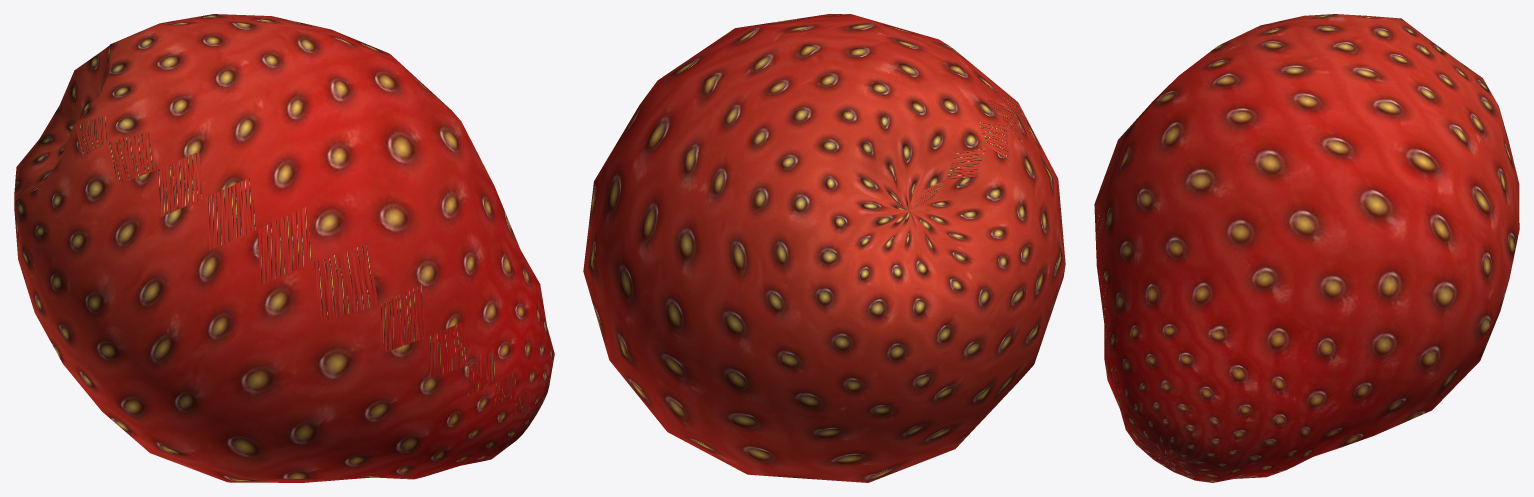
The model's file is Fresa.fbx.
3 views of the same model, side by side, from view 1: azimuth 30°, elevation 25°; view 2: azimuth 150°, elevation 25°; view 3: azimuth 270°, elevation 25° (orthographic). The views are drawn at different scales.
Parts seen in each view (by area): view 1: pSphere1; view 2: pSphere1; view 3: pSphere1.
Part boxes in pixels (box(x1,y1,x2,y2)): pSphere1: box(14, 14, 554, 482); pSphere1: box(583, 14, 1065, 482); pSphere1: box(1094, 14, 1519, 482).
Size of the model in its own units: 3.32 by 3.07 by 3.1.
Materials: 1 (1 with a texture image).
